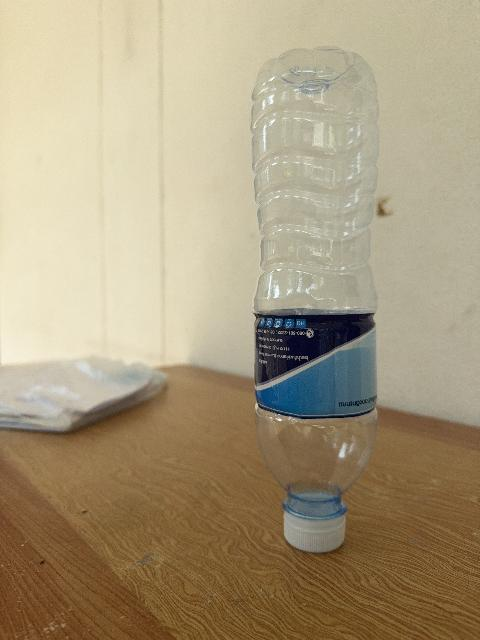bottle: (252, 47, 378, 551)
